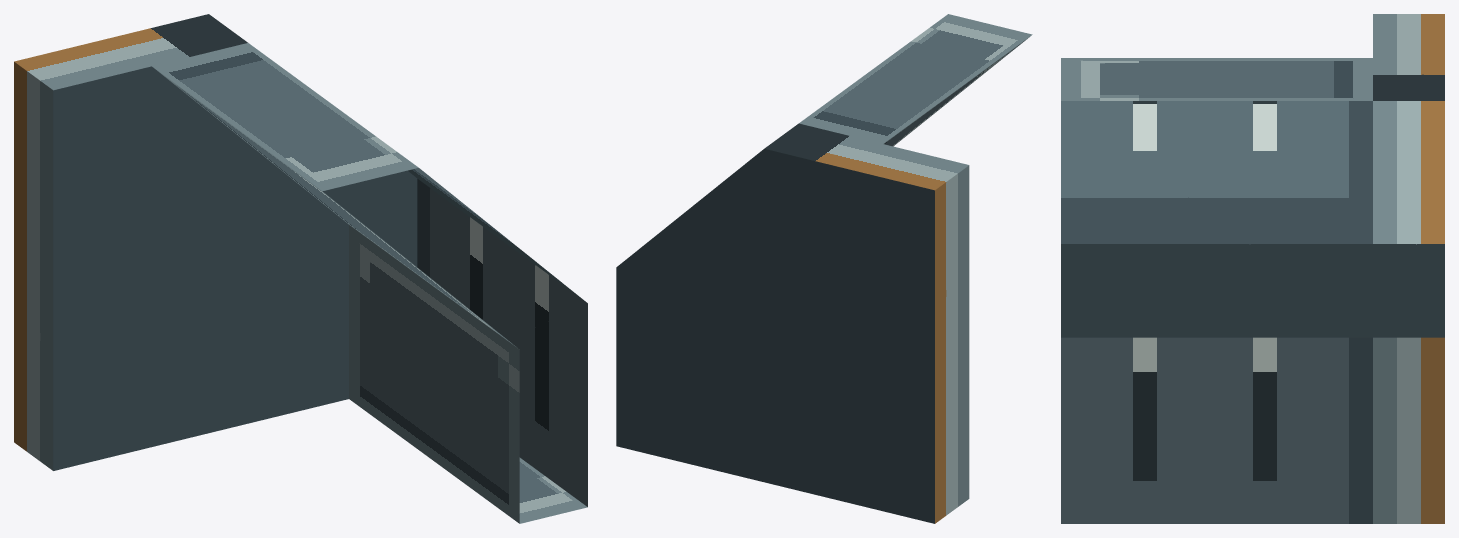
File: casing_d5_front_x2_y1.obj
3 views of the same model, side by side, from view 1: azimuth 30°, elevation 25°; view 2: azimuth 150°, elevation 25°; view 3: azimuth 270°, elevation 25° (orthographic). The views are drawn at different scales.
Visible parts, largest first — view 1: d5_front_x2_y1; view 2: d5_front_x2_y1; view 3: d5_front_x2_y1.
Part boxes in pixels (x1=…): d5_front_x2_y1: x1=14, y1=14, x2=587, y2=523; d5_front_x2_y1: x1=616, y1=14, x2=1032, y2=523; d5_front_x2_y1: x1=1061, y1=14, x2=1444, y2=523.
Bounding box in the file's own units: 1 × 1 × 1.
